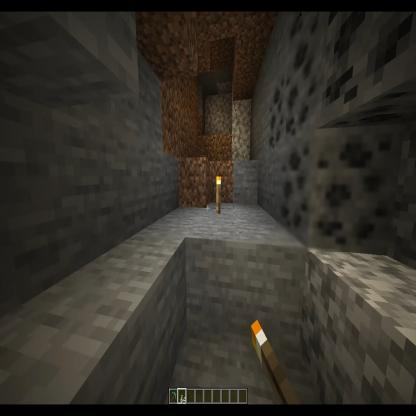coal ore: (276, 129, 395, 252), (316, 0, 415, 128), (284, 16, 320, 141), (267, 69, 286, 151)
